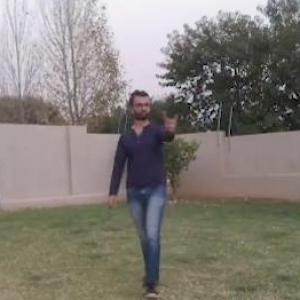takeoff-hand: (160, 102, 188, 134)
